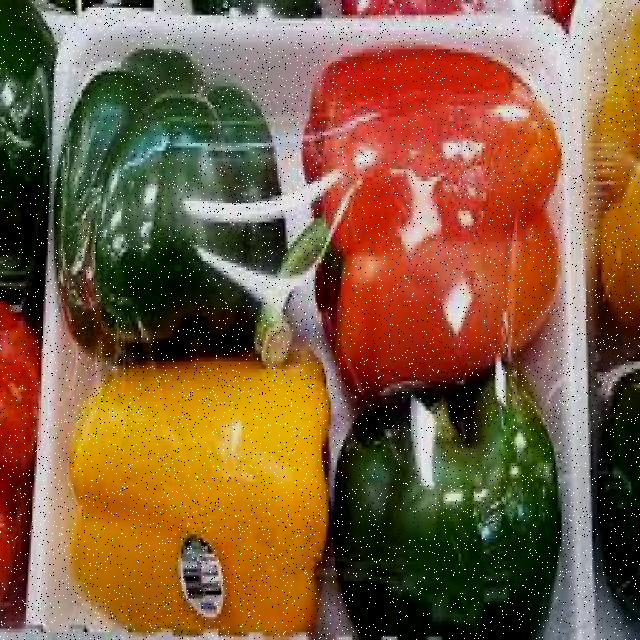Bell Pepper: (57, 6, 581, 639)
